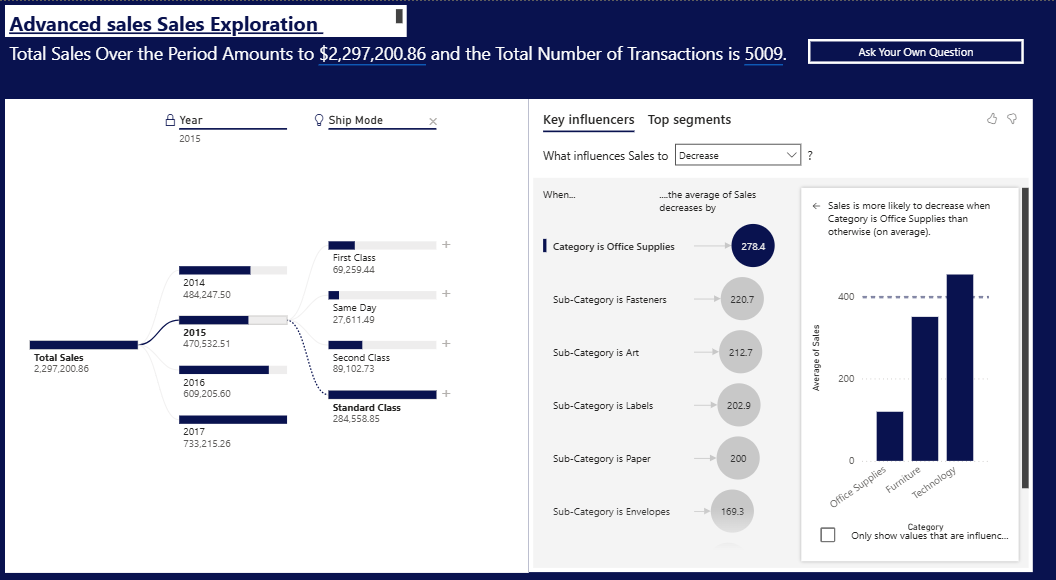

Layout of this report page (visuals, bound fields, positions):
{"tool":"powerbi","page":{"name":"ADVANCED ANALYSIS","canvas":[1280,700],"ordinal":2},"visuals":[{"type":"textbox","title":"Title 1","box":[8.4,4.8,484.3,43.4],"z":0},{"type":"textbox","title":"Title 2","box":[8.4,43.4,1260.2,41],"z":1000},{"type":"decompositionTreeVisual","fields":{"Analyze":["Sum(Sheet1.Sales)"],"ExplainBy":["Sheet1.Order Date.Variation.Date Hierarchy.Year","Sheet1.Ship Mode","Sheet1.Order Date.Variation.Date Hierarchy.Quarter","Sheet1.Order Date.Variation.Date Hierarchy.Month","Sheet1.Region","Sheet1.State","Sheet1.Sub-Category","Sheet1.Category","Sheet1.City","Sheet1.Segment"]},"box":[8.4,118.1,631.3,571.1],"z":2000},{"type":"keyDriversVisual","fields":{"Target":["Sheet1.Sales"],"ExplainBy":["Sheet1.Category","Sheet1.City","Sheet1.Region","Sheet1.Segment","Sheet1.Ship Mode","Sheet1.Sub-Category"]},"box":[640,118.6,607.1,570],"z":3000},{"type":"actionButton","title":"Ask Question Button","box":[975.7,45.7,260,30],"z":4000}]}

Visuals, with their boxes in screenshot pixels (x1, y1, x2, y2), scaled from the page's 1280x700 canvas onto the 1056x580 screenshot:
"Title 1" textbox: bbox(7, 4, 406, 40)
"Title 2" textbox: bbox(7, 36, 1047, 70)
decompositionTreeVisual - Sum(Sheet1.Sales) x Sheet1.Order Date.Variation.Date Hierarchy.Year: bbox(7, 98, 528, 571)
keyDriversVisual - Sheet1.Sales x Sheet1.Category: bbox(528, 98, 1029, 571)
"Ask Question Button" actionButton: bbox(805, 38, 1019, 63)
